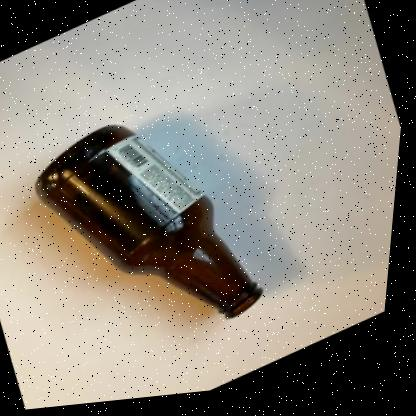Glass: (38, 126, 268, 322)
